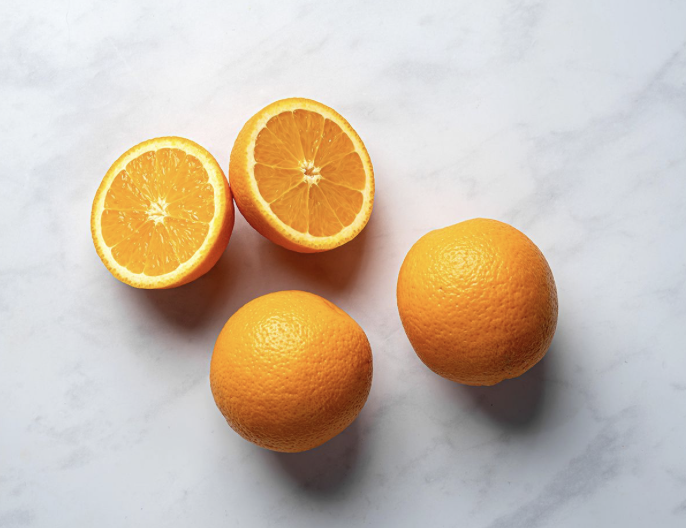orange: (381, 215, 566, 390), (195, 286, 385, 450)
